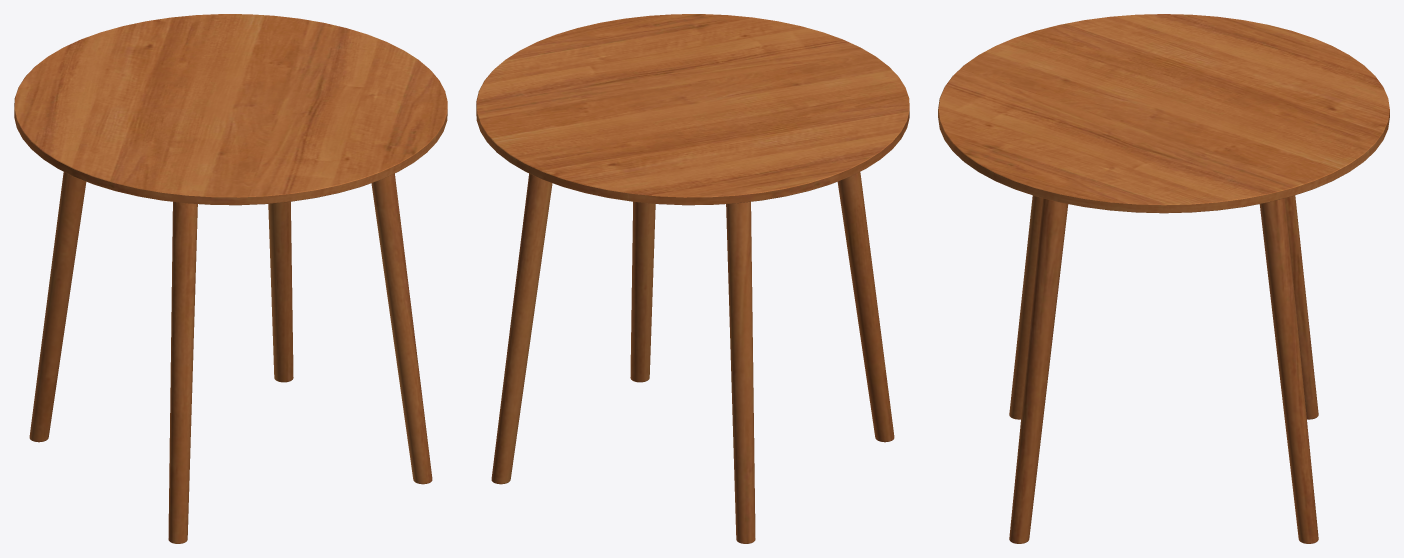
Rendered from table_31.001.fbx.
3 views of the same model, side by side, from view 1: azimuth 30°, elevation 25°; view 2: azimuth 150°, elevation 25°; view 3: azimuth 270°, elevation 25° (orthographic). The views are drawn at different scales.
Parts seen in each view (by area): view 1: table_31.001; view 2: table_31.001; view 3: table_31.001.
Part boxes in pixels (x1,y1,x2,y2): table_31.001: (14, 14, 447, 543); table_31.001: (476, 14, 909, 543); table_31.001: (938, 14, 1389, 543).
Size of the model in its own units: 80 by 72.04 by 80.
Materials: 1 (1 with a texture image).
